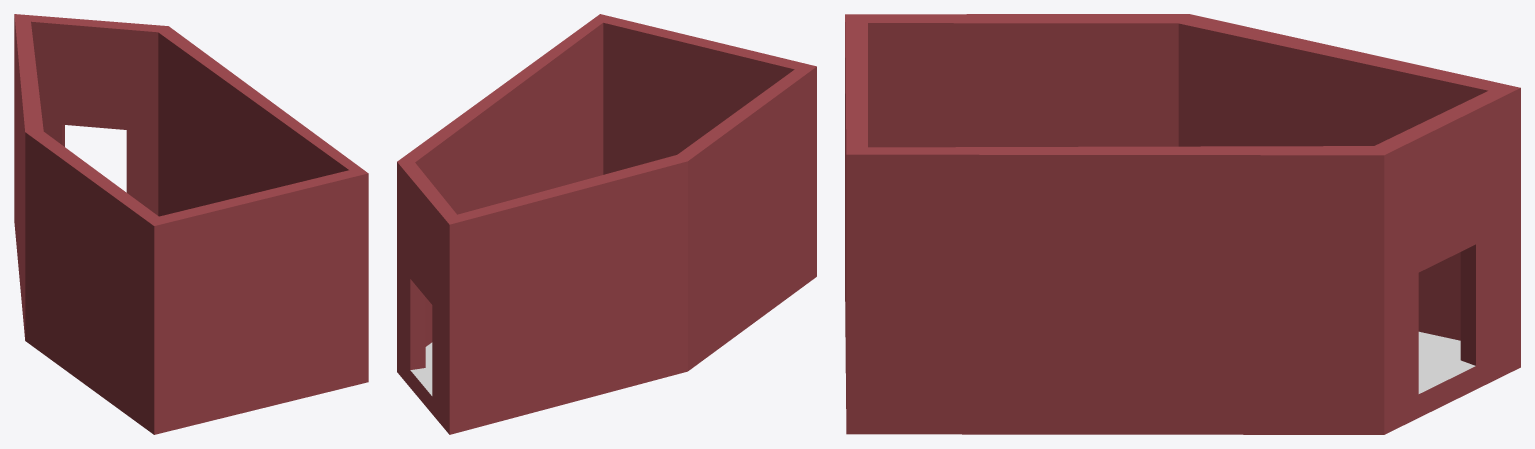
The picture shows the model from 3 angles, left to right: view 1: azimuth 30°, elevation 25°; view 2: azimuth 150°, elevation 25°; view 3: azimuth 270°, elevation 25°; orthographic projection. The views are drawn at different scales.
Visible parts, largest first — view 1: Sala 10; view 2: Sala 10, Sala 10.001; view 3: Sala 10, Sala 10.001.
Part boxes in pixels (x1,y1,x2,y2): Sala 10: (14,14,368,434); Sala 10: (397,14,816,434); Sala 10.001: (410,342,432,395); Sala 10: (845,14,1520,434); Sala 10.001: (1418,331,1475,393).
Bounding box in the file's own units: 2624 × 2422 × 5303.
